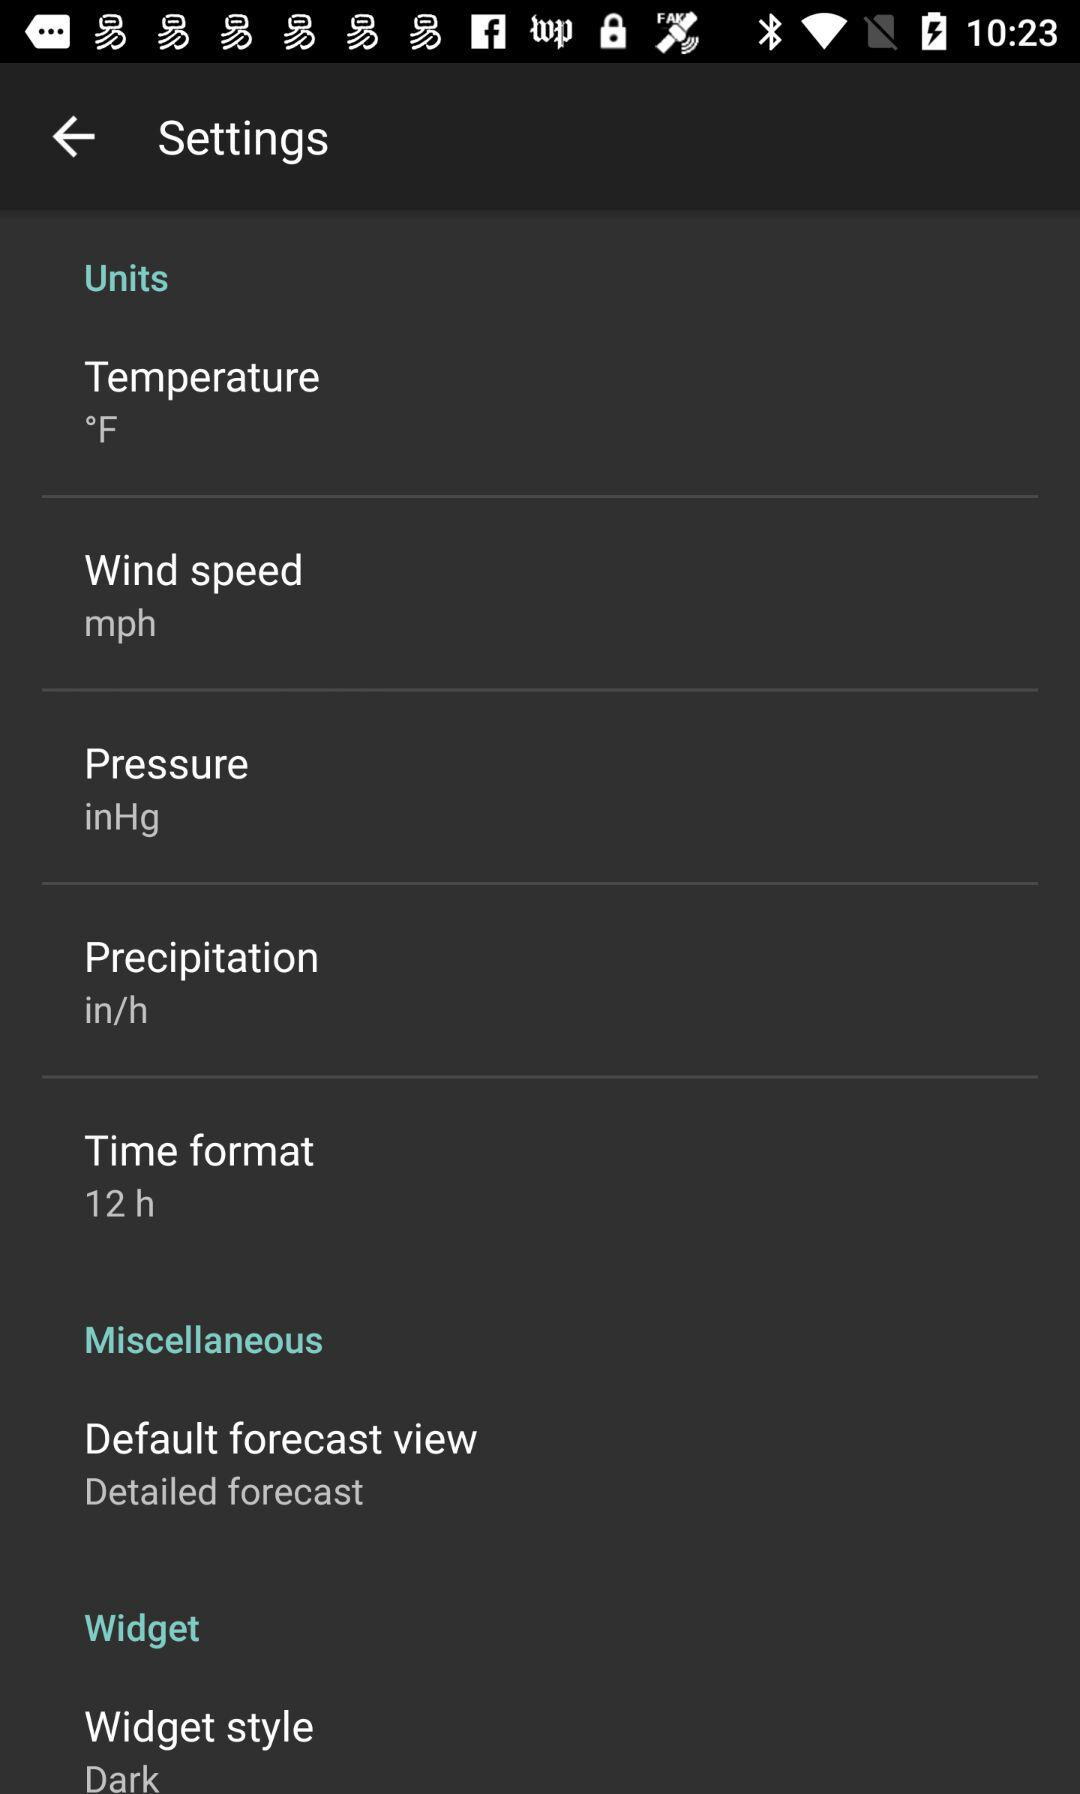Icon: (53, 115, 97, 160)
Text: (86, 1419, 479, 1456), (85, 1707, 315, 1753), (85, 360, 322, 402), (86, 941, 319, 983), (85, 554, 304, 596), (86, 1474, 364, 1507), (85, 1132, 316, 1167), (158, 120, 329, 167), (85, 1324, 324, 1356), (87, 747, 250, 780), (85, 1611, 202, 1650), (85, 801, 160, 841), (85, 607, 158, 646), (86, 263, 170, 293), (86, 1188, 155, 1219), (87, 1765, 161, 1793), (85, 994, 149, 1026), (85, 415, 119, 445)
Toolbar: (1, 62, 1080, 211)
UpperTaskBar: (1, 1, 1080, 64)
